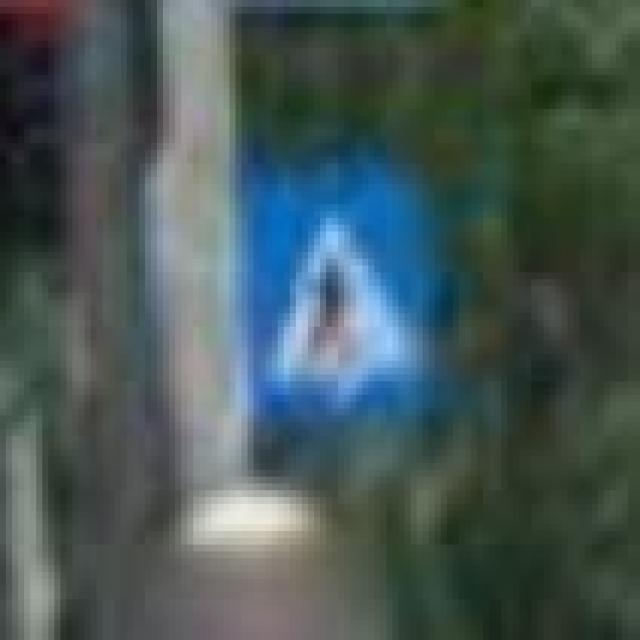traffic sign: (260, 177, 441, 429)
